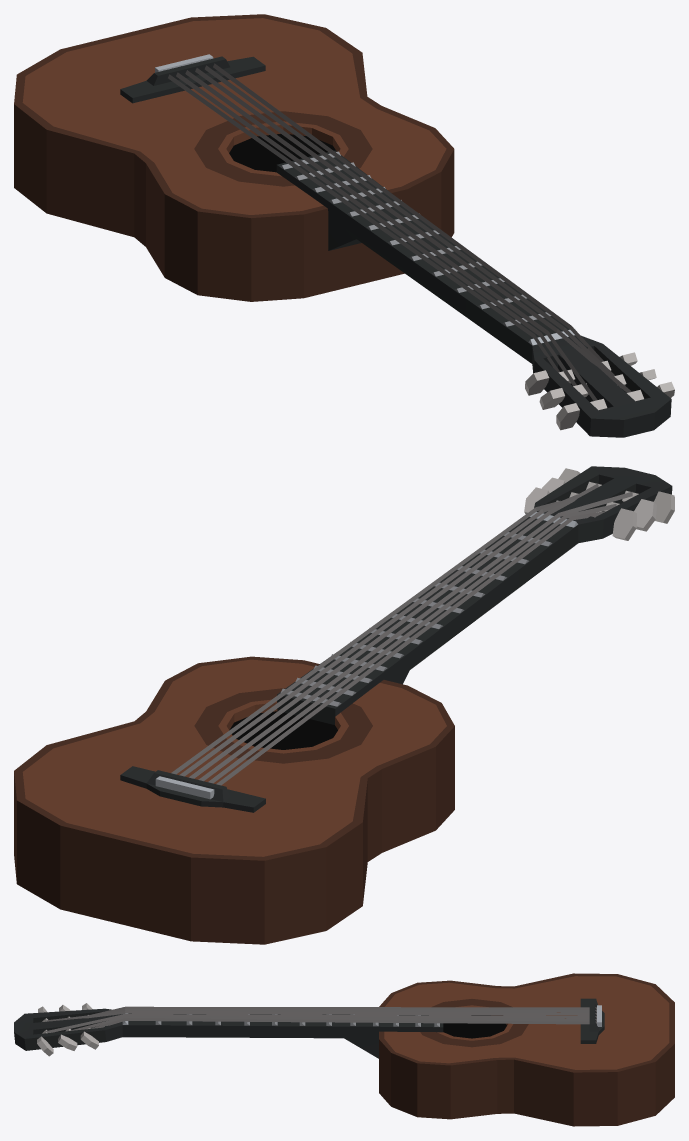
Rendered from SM_Prop_Music_Acoustic_Guitar_02.obj.
3 renders of one model, top to bottom at view 1: azimuth 30°, elevation 25°; view 2: azimuth 150°, elevation 25°; view 3: azimuth 270°, elevation 25°, orthographic. The views are drawn at different scales.
Parts seen in each view (by area): view 1: SM_Prop_Music_Acoustic_Guitar_02_0; view 2: SM_Prop_Music_Acoustic_Guitar_02_0; view 3: SM_Prop_Music_Acoustic_Guitar_02_0.
Part boxes in pixels (<box>): SM_Prop_Music_Acoustic_Guitar_02_0: <box>14,14,674,437</box>; SM_Prop_Music_Acoustic_Guitar_02_0: <box>14,466,674,944</box>; SM_Prop_Music_Acoustic_Guitar_02_0: <box>14,973,674,1126</box>.
Size of the model in its own units: 0.5628 by 0.1707 by 1.59.
Materials: 1 (1 with a texture image).
